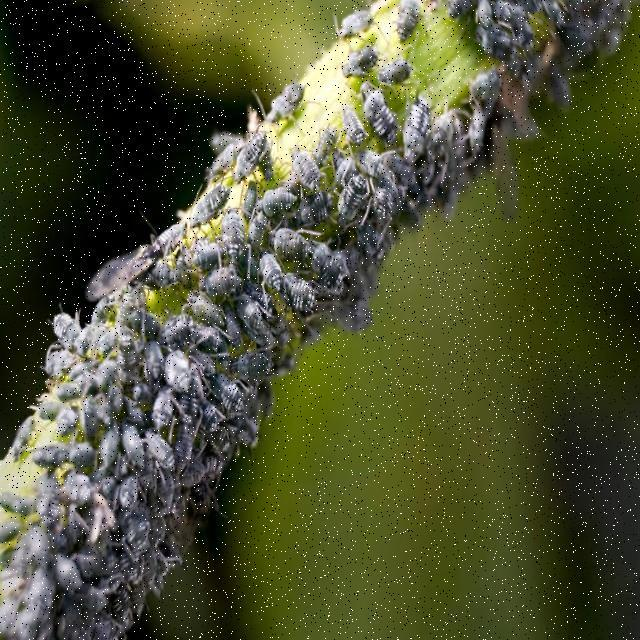Aphids: (231, 124, 274, 186), (286, 136, 327, 195)
